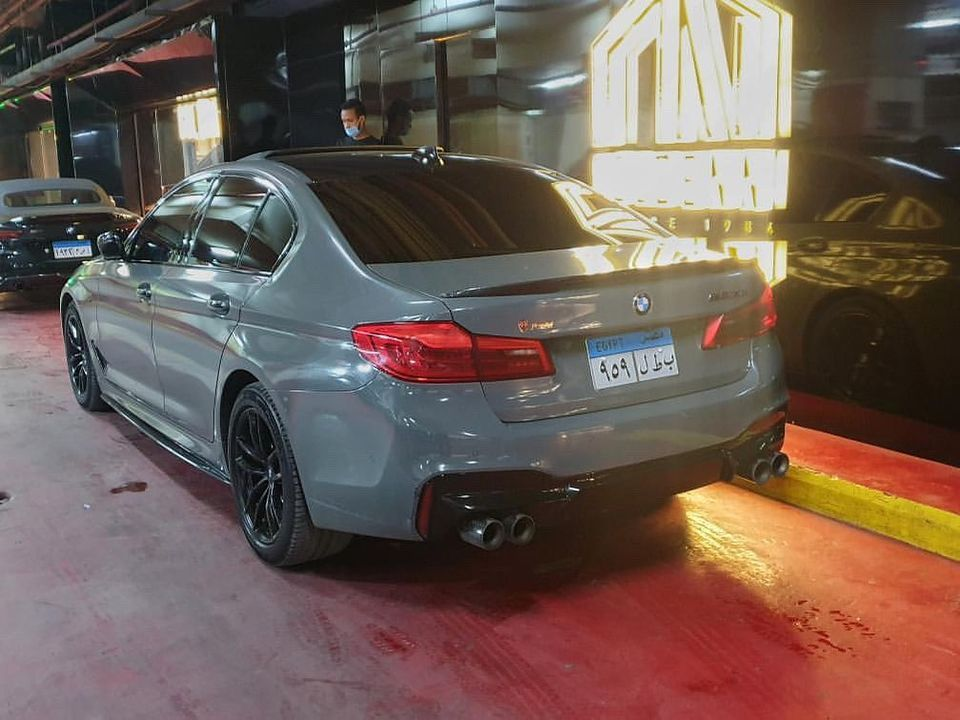carpl: (597, 338, 683, 386)
